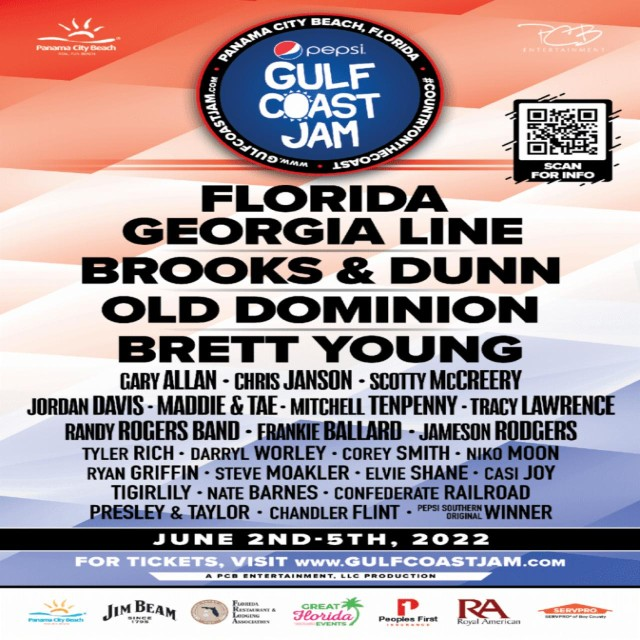pepsi: (268, 34, 305, 62)
